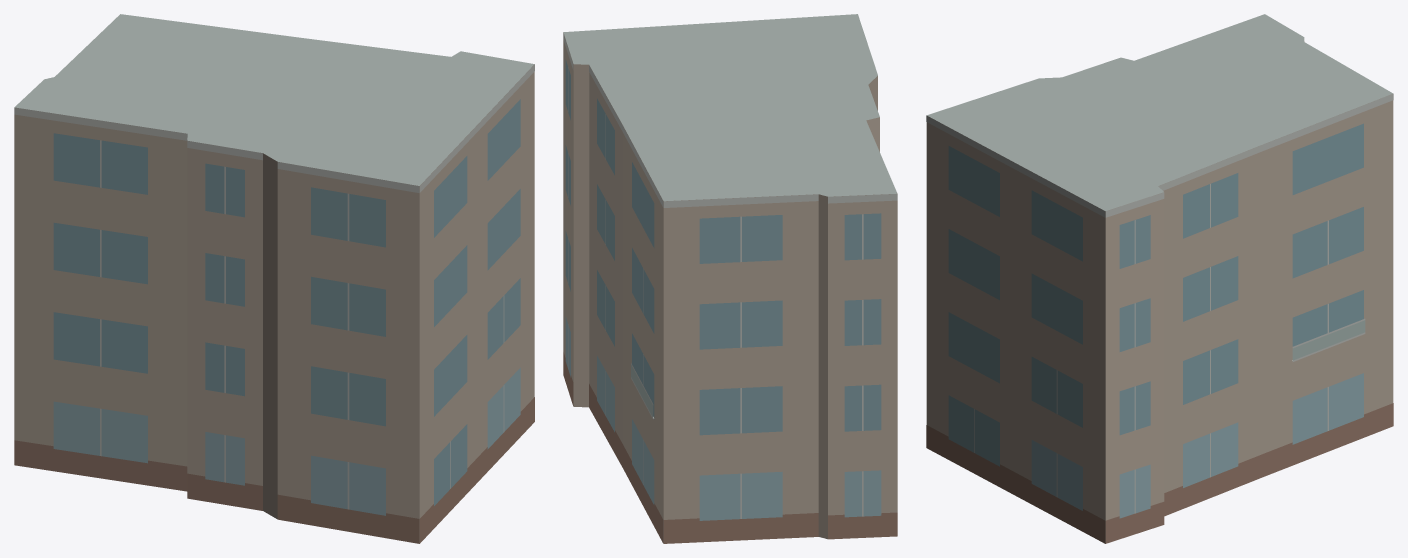
Rendered from survey-upis-32518897.glb.
3 views of the same model, side by side, from view 1: azimuth 30°, elevation 25°; view 2: azimuth 150°, elevation 25°; view 3: azimuth 270°, elevation 25° (orthographic). The views are drawn at different scales.
Visible parts, largest first — view 1: survey-upis-32518897.tmp; view 2: survey-upis-32518897.tmp; view 3: survey-upis-32518897.tmp.
Part boxes in pixels (<box>): survey-upis-32518897.tmp: <box>14,14,534,543</box>; survey-upis-32518897.tmp: <box>563,14,897,543</box>; survey-upis-32518897.tmp: <box>926,14,1393,543</box>.
Bounding box in the file's own units: 15.52 × 12.2 × 15.53.
